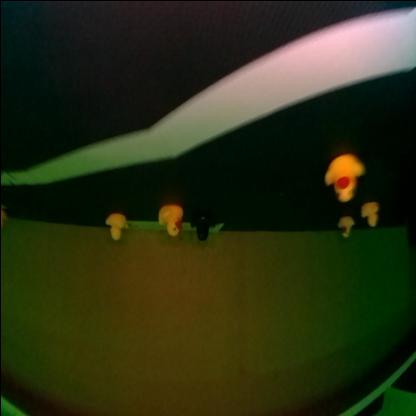Duckie: (323, 157, 362, 202), (156, 206, 180, 236), (104, 214, 125, 238), (361, 204, 377, 224), (337, 218, 351, 238)
